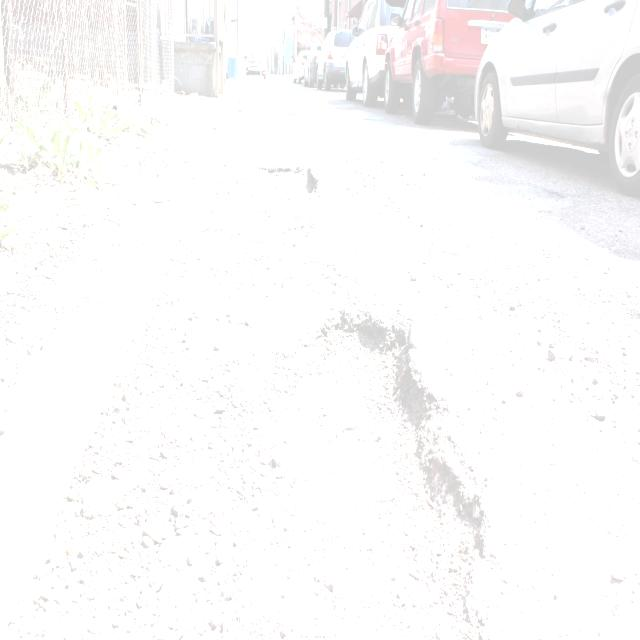Pothole: (234, 143, 488, 640)
